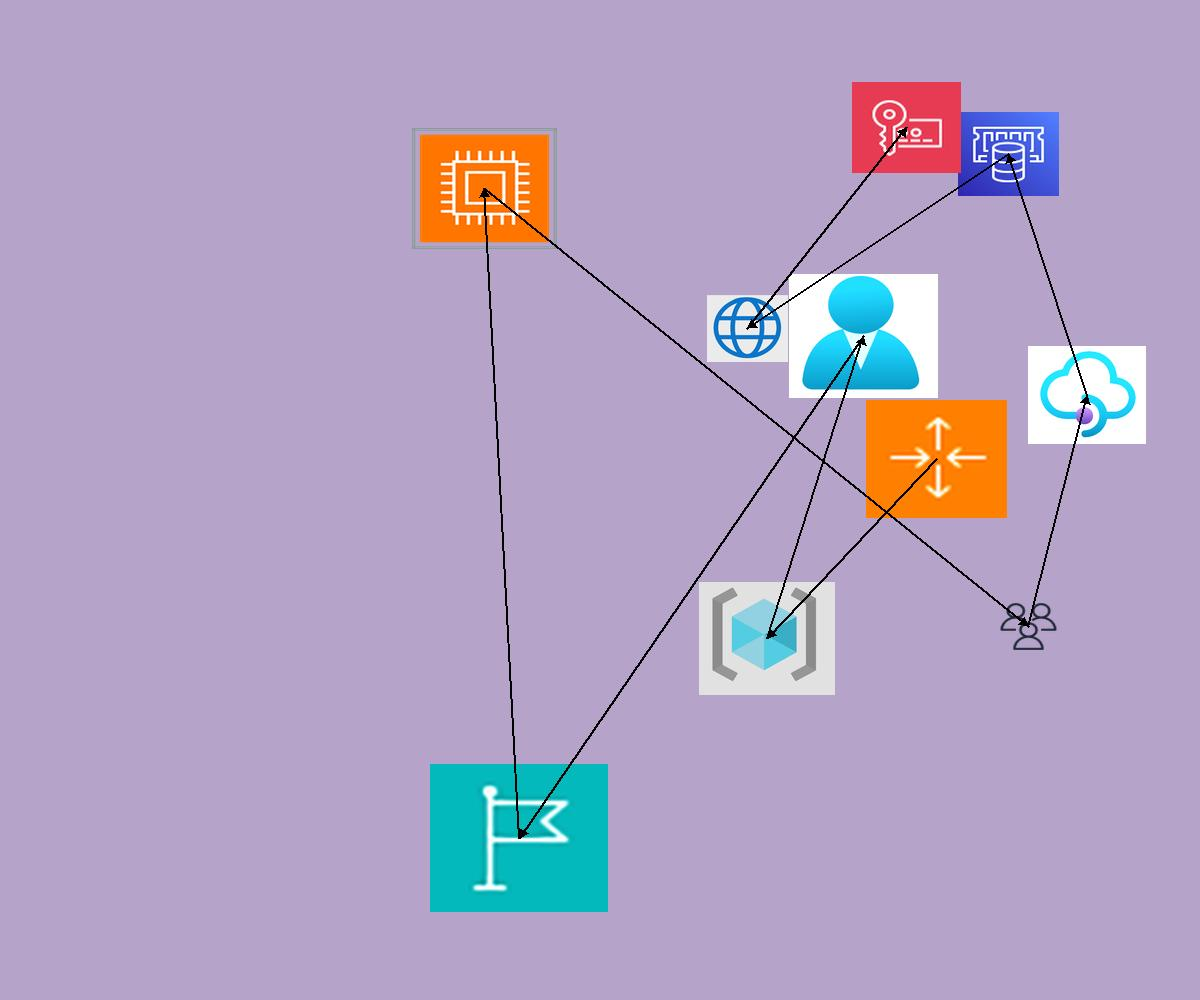AWS-Category_Compute: (412, 128, 557, 249)
AWS-ElastiCache: (958, 112, 1059, 196)
AWS-Key-Management-Service: (852, 82, 961, 173)
AWS-Region: (430, 764, 608, 912)
AWS-Res_Users: (998, 601, 1059, 652)
AWS-Scaling-group: (866, 400, 1007, 518)
Azure_api_gateway: (1028, 346, 1146, 444)
Azure_http: (707, 295, 788, 362)
Azure_resource_group: (699, 582, 835, 695)
Azure_users: (789, 274, 938, 398)
